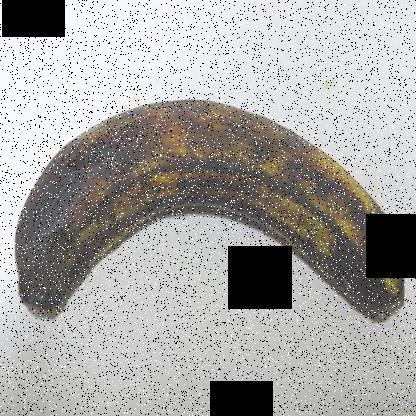overripe: (8, 83, 416, 343)
